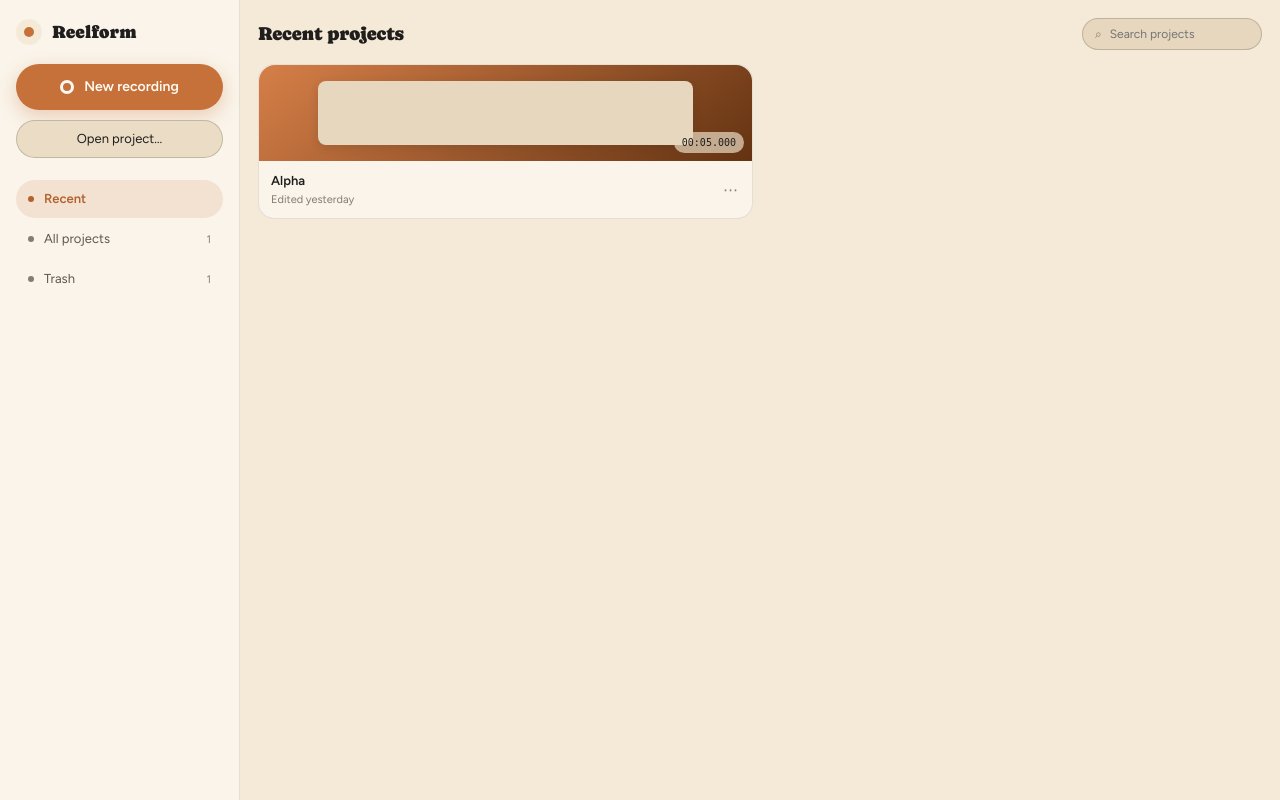
Test case: LauncherContainer — project card menu and Open project… › a failed action shows a dismissable notice
Step 1. Click the button "⋯" → (730, 191), box [717, 177, 744, 204]
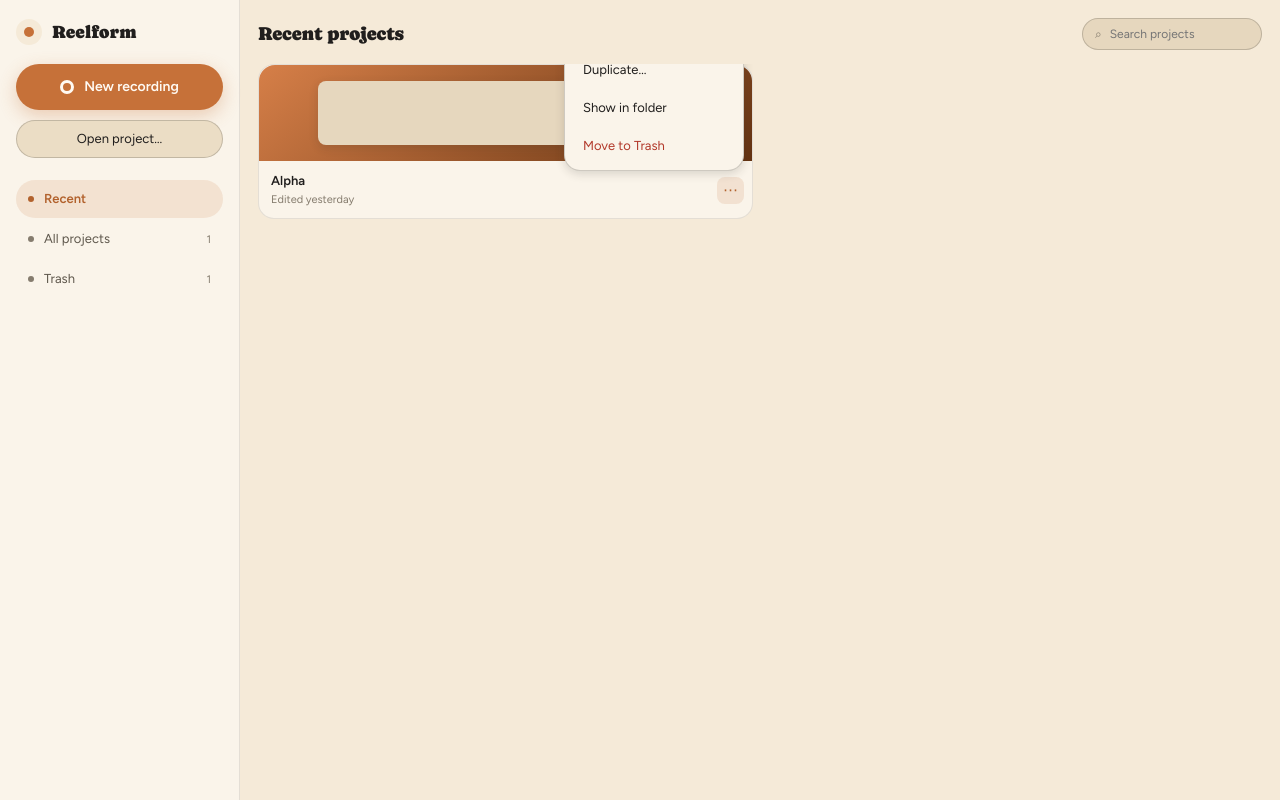
Step 2. Click the menu item "Move to Trash" → (654, 146), box [571, 128, 737, 164]
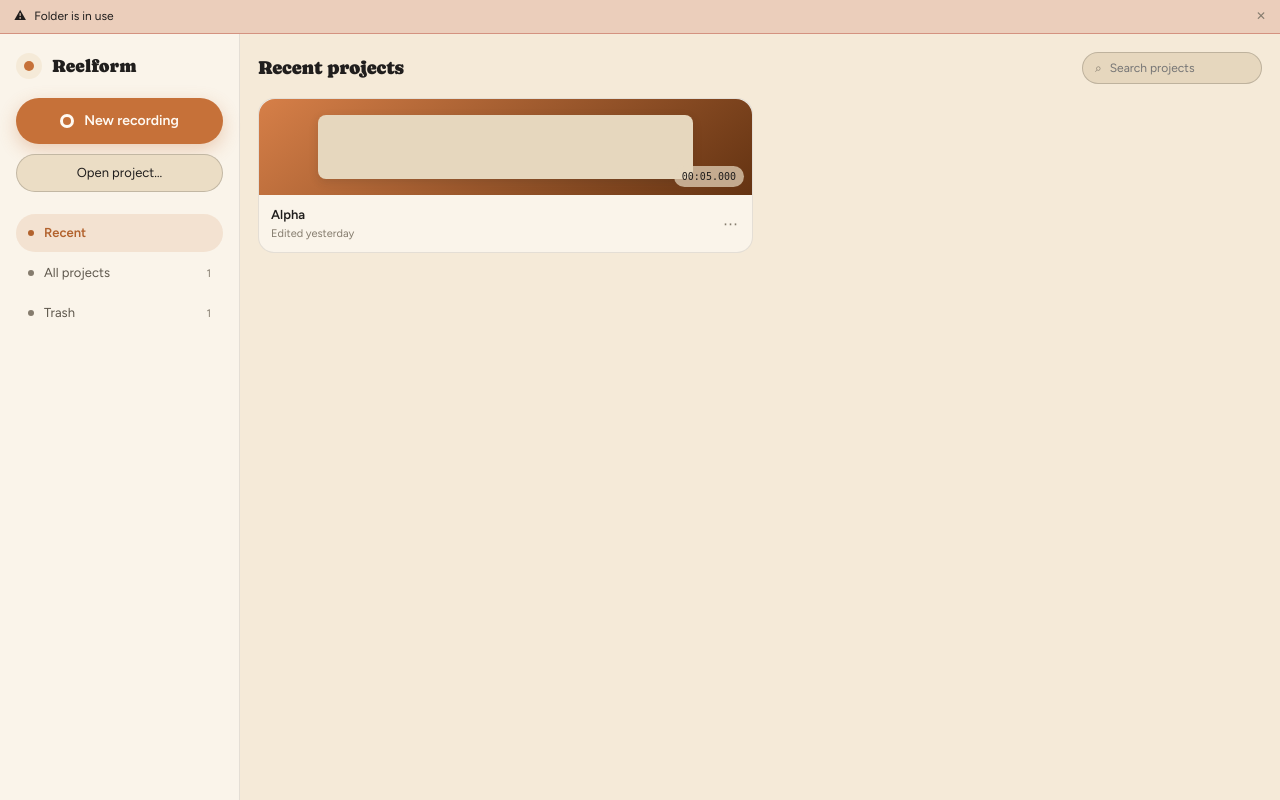
Result: the message with test id "launcher-notice-project-action" shows "Folder is in use" at [34, 9, 114, 23]
Step 3. Click the button named "Dismiss" → (1261, 16), box [1256, 7, 1266, 26]
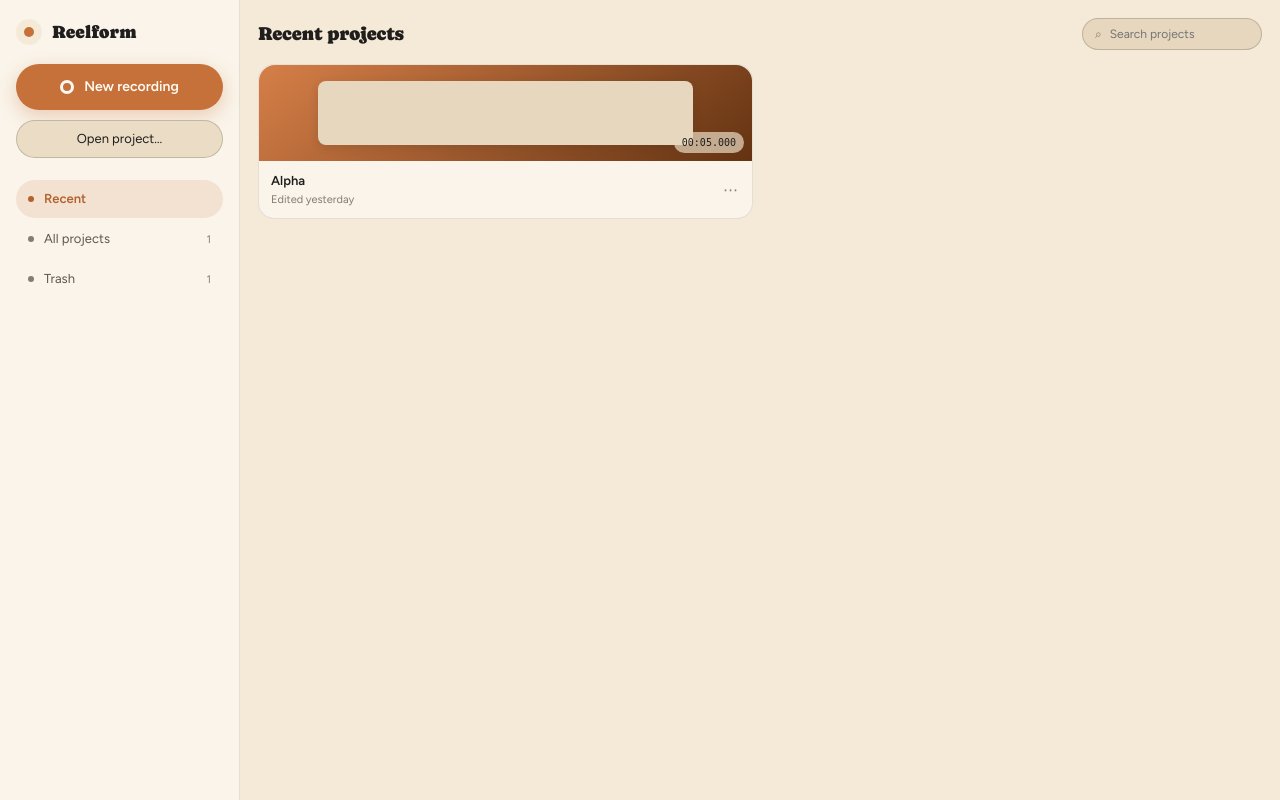
Result: the message with test id "launcher-notice-project-action" is gone
